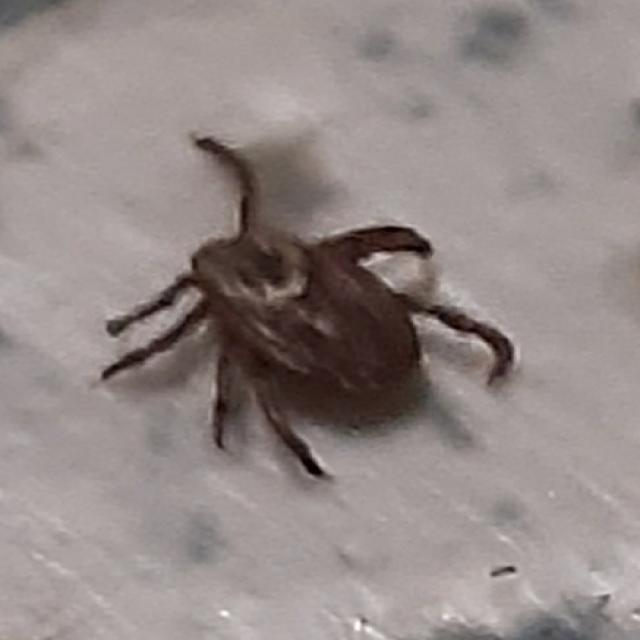Dermacentor Reticulatus-F: (101, 136, 518, 480)
